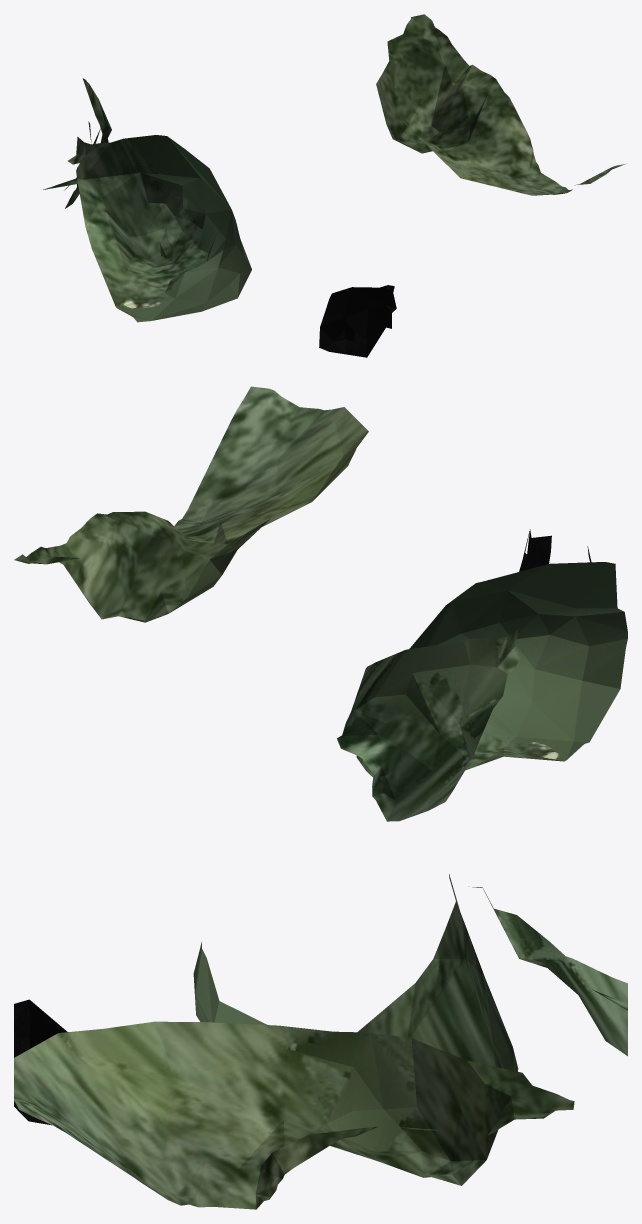
The picture shows the model from 3 angles, top to bottom: view 1: azimuth 30°, elevation 25°; view 2: azimuth 150°, elevation 25°; view 3: azimuth 270°, elevation 25°; orthographic projection. The views are drawn at different scales.
Bounding box in the file's own units: 5.9 × 2.23 × 5.9.
2 materials, 2 textured.
